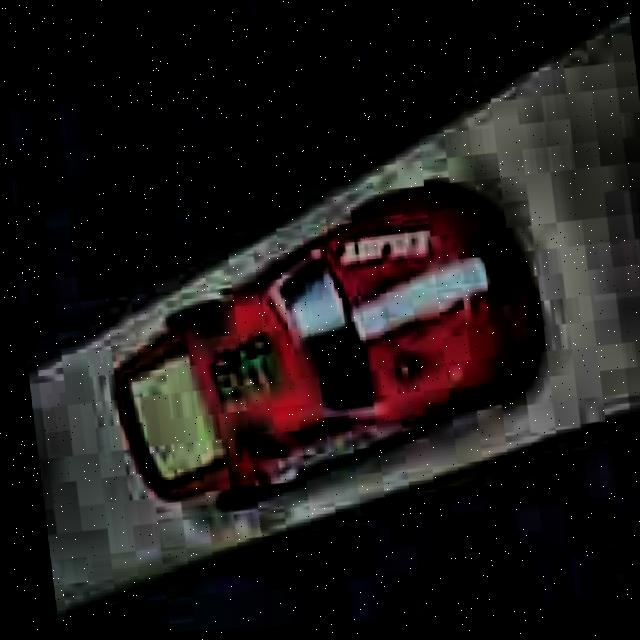car: (85, 167, 564, 523)
